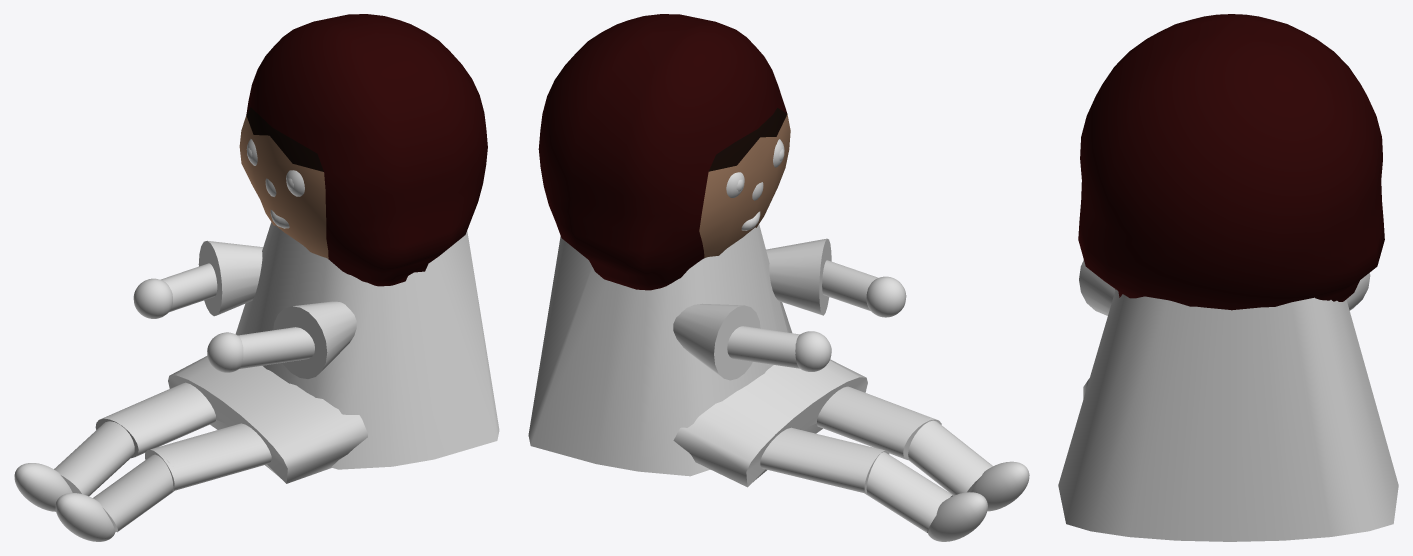
File: redV5.fbx
3 views of the same model, side by side, from view 1: azimuth 30°, elevation 25°; view 2: azimuth 150°, elevation 25°; view 3: azimuth 270°, elevation 25° (orthographic). The views are drawn at different scales.
Parts seen in each view (by area): view 1: pSphere1, pCylinder1, pCylinder12, pCylinder14, pCylinder13, pCylinder11, pCylinder15, pCylinder2, pCylinder16, pCylinder10, pSphere5, pSphere4 (+3 smaller); view 2: pSphere1, pCylinder1, pCylinder12, pCylinder13, pCylinder14, pCylinder2, pCylinder11, pCylinder15, pCylinder16, pCylinder8, pSphere4, pSphere5 (+3 smaller); view 3: pSphere1, pCylinder1, pCylinder11.
Boxes of the visible parts, left/top/right/bottom form: pSphere1: left=239, top=14, right=487, bottom=286; pCylinder1: left=235, top=222, right=499, bottom=469; pCylinder12: left=168, top=356, right=367, bottom=483; pCylinder14: left=145, top=423, right=271, bottom=491; pCylinder13: left=95, top=382, right=215, bottom=458; pCylinder11: left=273, top=301, right=356, bottom=378; pCylinder15: left=54, top=421, right=134, bottom=496; pCylinder2: left=198, top=240, right=262, bottom=316; pCylinder16: left=93, top=454, right=173, bottom=532; pCylinder10: left=238, top=327, right=314, bottom=368; pSphere5: left=55, top=493, right=115, bottom=541; pSphere4: left=14, top=463, right=72, bottom=511; pSphere1: left=538, top=14, right=790, bottom=290; pCylinder1: left=528, top=224, right=792, bottom=476; pCylinder12: left=673, top=359, right=867, bottom=487; pCylinder13: left=760, top=427, right=889, bottom=493; pCylinder14: left=817, top=386, right=941, bottom=460; pCylinder2: left=673, top=303, right=760, bottom=380; pCylinder11: left=766, top=238, right=831, bottom=315; pCylinder15: left=865, top=452, right=953, bottom=532; pCylinder16: left=908, top=418, right=992, bottom=495; pCylinder8: left=727, top=326, right=799, bottom=368; pSphere4: left=927, top=492, right=987, bottom=541; pSphere5: left=971, top=461, right=1029, bottom=511; pSphere1: left=1078, top=14, right=1384, bottom=310; pCylinder1: left=1058, top=289, right=1398, bottom=541; pCylinder11: left=1079, top=260, right=1115, bottom=315.
Bounding box in the file's own units: 39.66 × 22.32 × 36.73.
